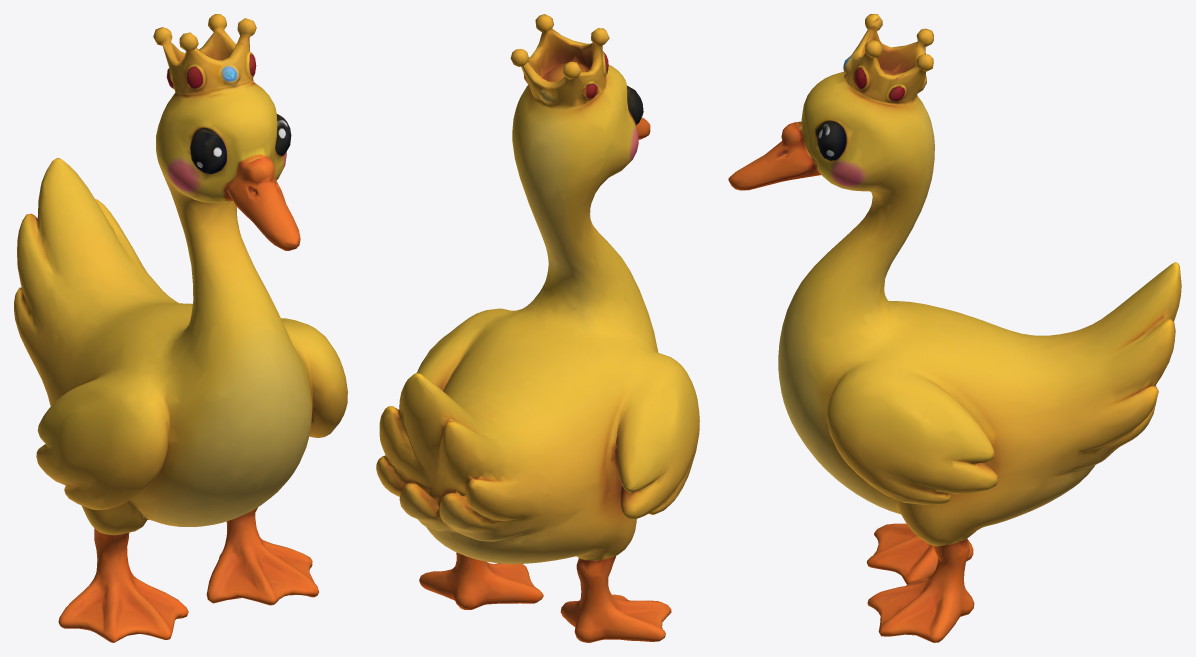
File: golden_goose.glb
3 renders of one model, left to right at view 1: azimuth 30°, elevation 25°; view 2: azimuth 150°, elevation 25°; view 3: azimuth 270°, elevation 25°, orthographic. The views are drawn at different scales.
Parts seen in each view (by area): view 1: tripo_node_46f56ce3-5dc0-4a2c-9dcc-164a91460981; view 2: tripo_node_46f56ce3-5dc0-4a2c-9dcc-164a91460981; view 3: tripo_node_46f56ce3-5dc0-4a2c-9dcc-164a91460981.
Boxes of the visible parts, left/top/right/bottom form: tripo_node_46f56ce3-5dc0-4a2c-9dcc-164a91460981: left=14, top=14, right=347, bottom=642; tripo_node_46f56ce3-5dc0-4a2c-9dcc-164a91460981: left=376, top=14, right=699, bottom=642; tripo_node_46f56ce3-5dc0-4a2c-9dcc-164a91460981: left=728, top=14, right=1181, bottom=642.
Size of the model in its own units: 0.4732 by 1 by 0.7256.
Materials: 1 (1 with a texture image).
